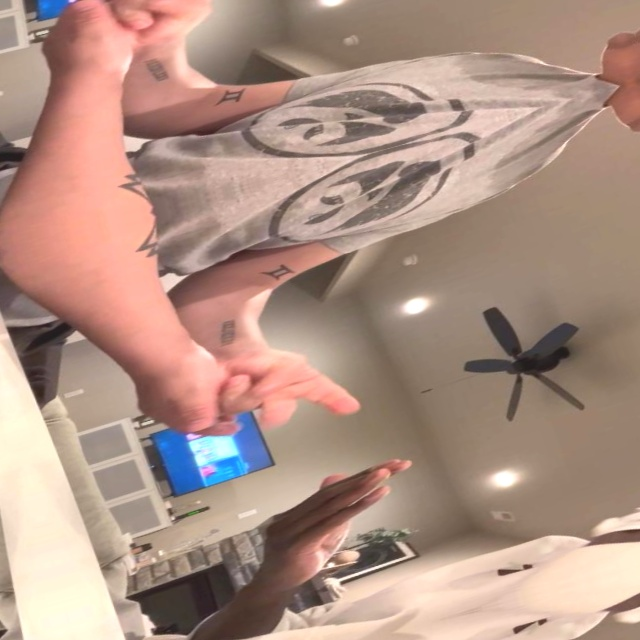Scissors: (96, 0, 255, 58)
